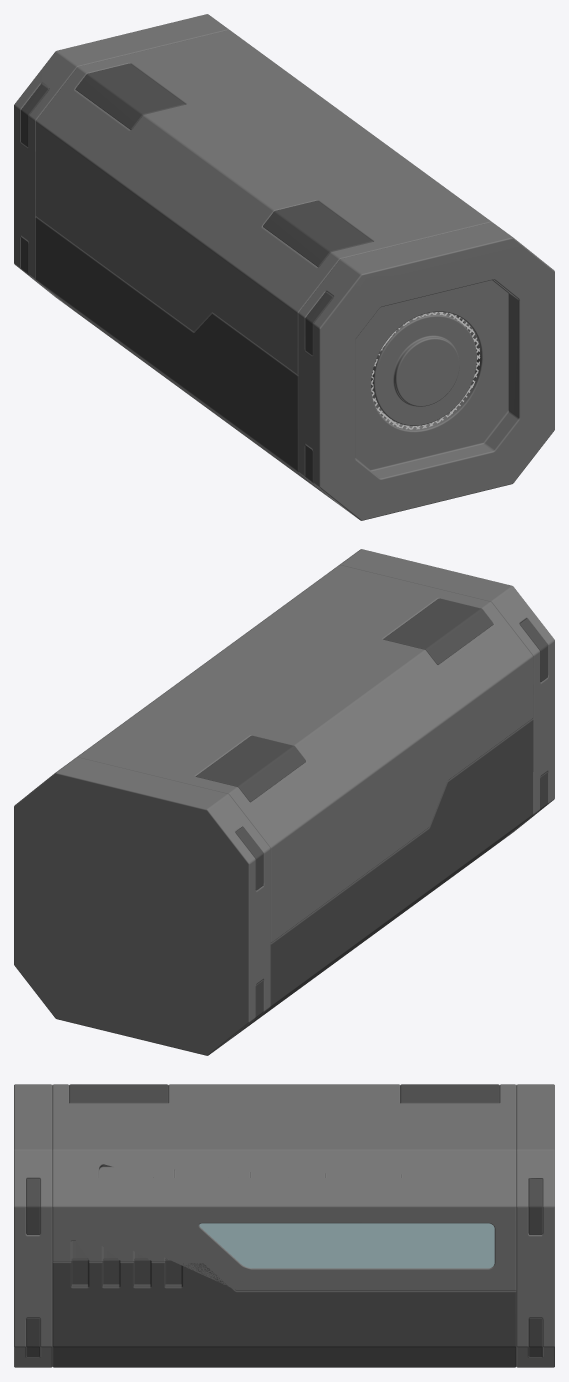
Rendered from Crate.fbx.
3 views of the same model, one above another, from view 1: azimuth 30°, elevation 25°; view 2: azimuth 150°, elevation 25°; view 3: azimuth 270°, elevation 25° (orthographic). The views are drawn at different scales.
Visible parts, largest first — view 1: bool_obj, bool_obj.Slice, bool_obj.Slice.001, bool_obj.Slice.002, bool_obj.Slice.Slice, Grid_Diamond; view 2: bool_obj, bool_obj.Slice, bool_obj.Slice.001, bool_obj.Slice.002, bool_obj.Slice.Slice; view 3: bool_obj, bool_obj.Slice.001, bool_obj.Slice, bool_obj.010, bool_obj.Slice.002, bool_obj.Slice.Slice.
Boxes of the visible parts, x1,y1,x2,y2 form: bool_obj: (35, 30, 491, 374); bool_obj.Slice: (14, 14, 554, 520); bool_obj.Slice.001: (35, 217, 335, 502); bool_obj.Slice.002: (75, 63, 372, 267); bool_obj.Slice.Slice: (21, 83, 333, 497); Grid_Diamond: (371, 312, 480, 429); bool_obj: (77, 565, 533, 942); bool_obj.Slice: (14, 549, 554, 1055); bool_obj.Slice.001: (233, 719, 533, 1037); bool_obj.Slice.002: (196, 598, 493, 802); bool_obj.Slice.Slice: (235, 618, 547, 1032); bool_obj: (52, 1084, 516, 1290); bool_obj.Slice.001: (52, 1259, 516, 1367); bool_obj.Slice: (14, 1084, 554, 1367); bool_obj.010: (199, 1223, 494, 1268); bool_obj.Slice.002: (69, 1084, 499, 1103); bool_obj.Slice.Slice: (26, 1178, 542, 1356).
Bounding box in the file's own units: 200 × 200 × 450.
